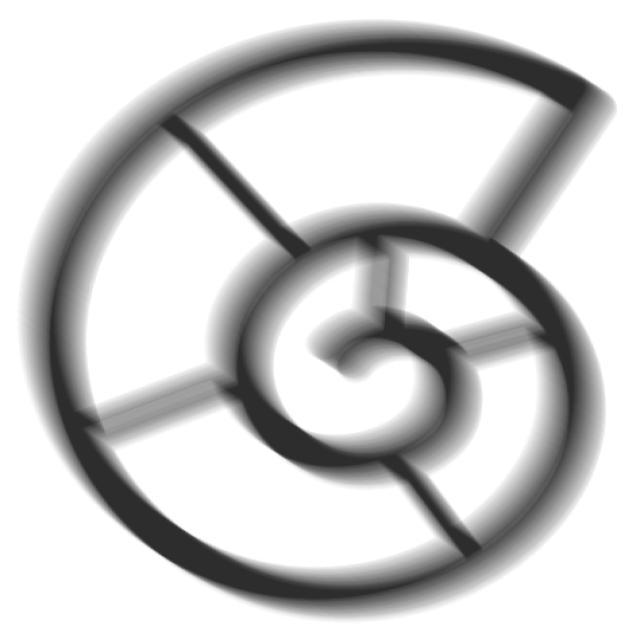fossil: (16, 13, 620, 631)
